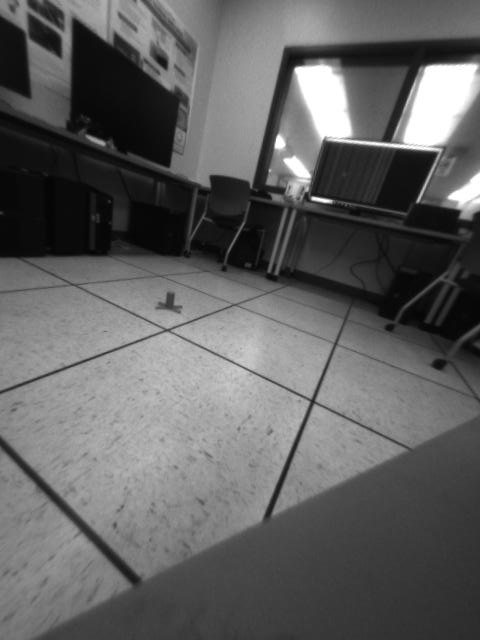X: (154, 291, 182, 316)
